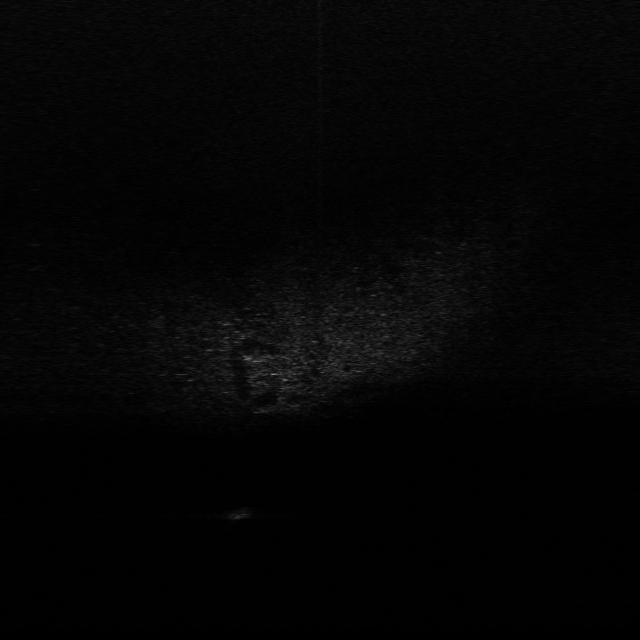cylinder: (224, 502, 254, 522)
